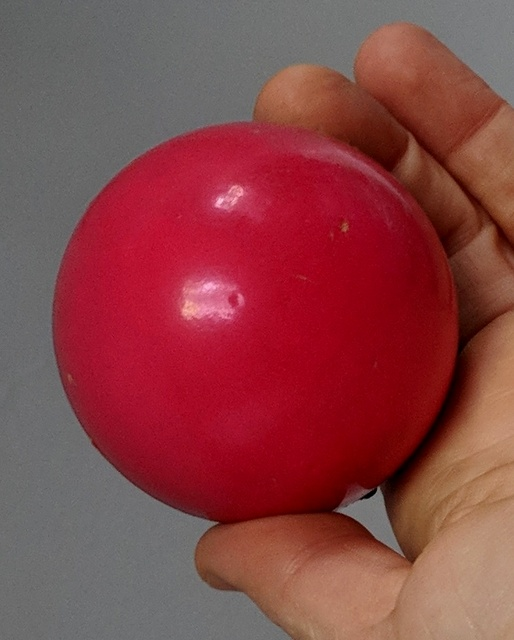ball: (51, 120, 468, 529)
